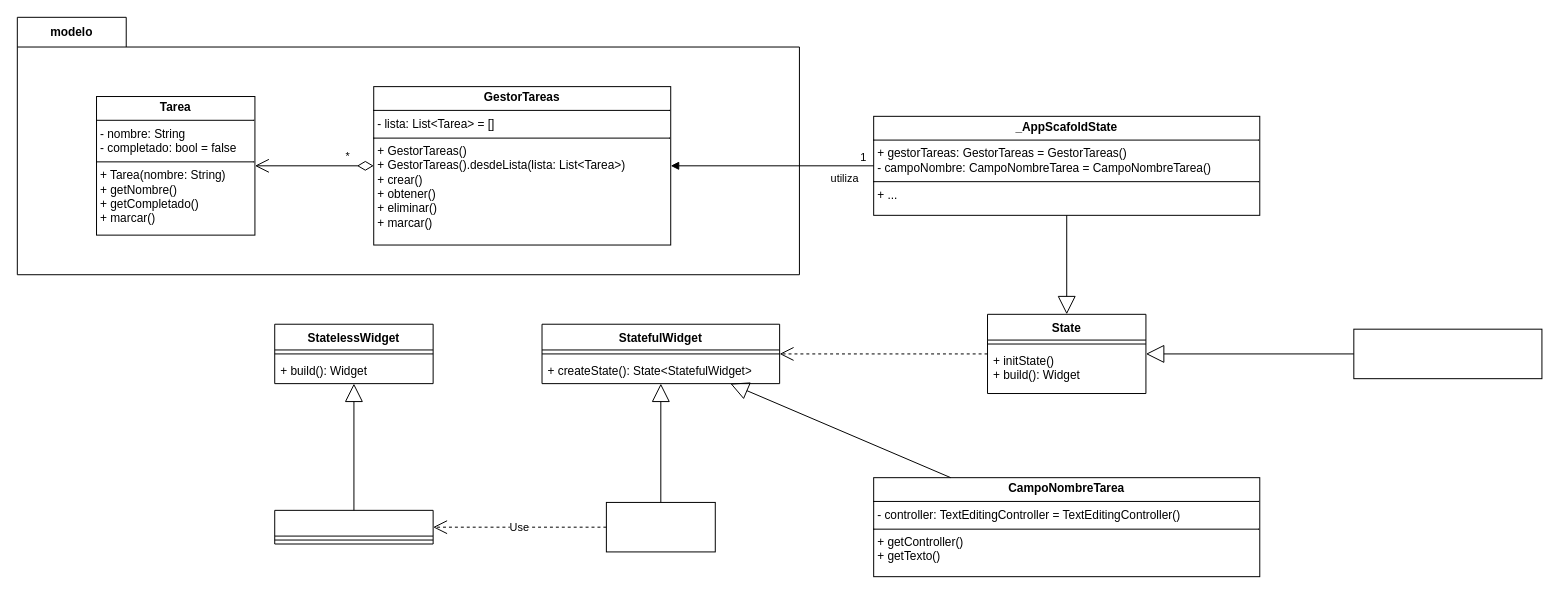
This 1559x594 diagram has some shape labels left out. Here are the shapes that lost their labels. From the top down, the centre of each, then its label:
point 1447,353: _CampoNombreTareaState
point 353,526: MainApp
point 660,526: AppScafold
